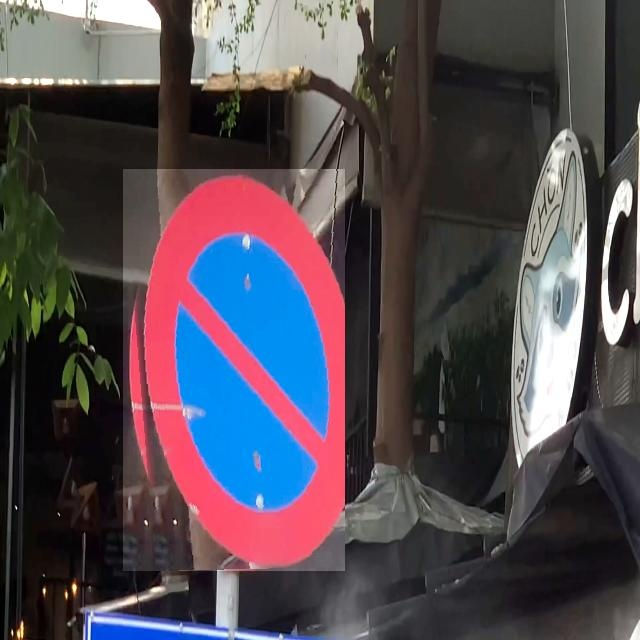bien_chi_dan: (123, 169, 345, 571)
